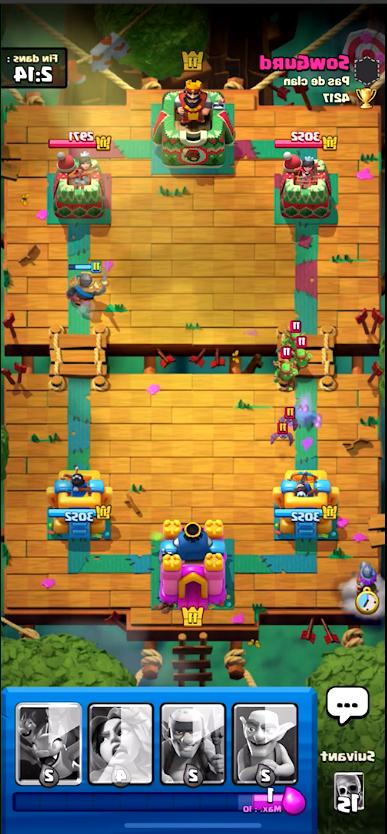bat: (272, 421, 292, 441), (280, 406, 299, 425)
chevalier: (63, 261, 109, 306)
gobelin_lances: (273, 350, 296, 385), (292, 340, 310, 366), (280, 324, 303, 344)
mousquetaire: (356, 558, 376, 593)
